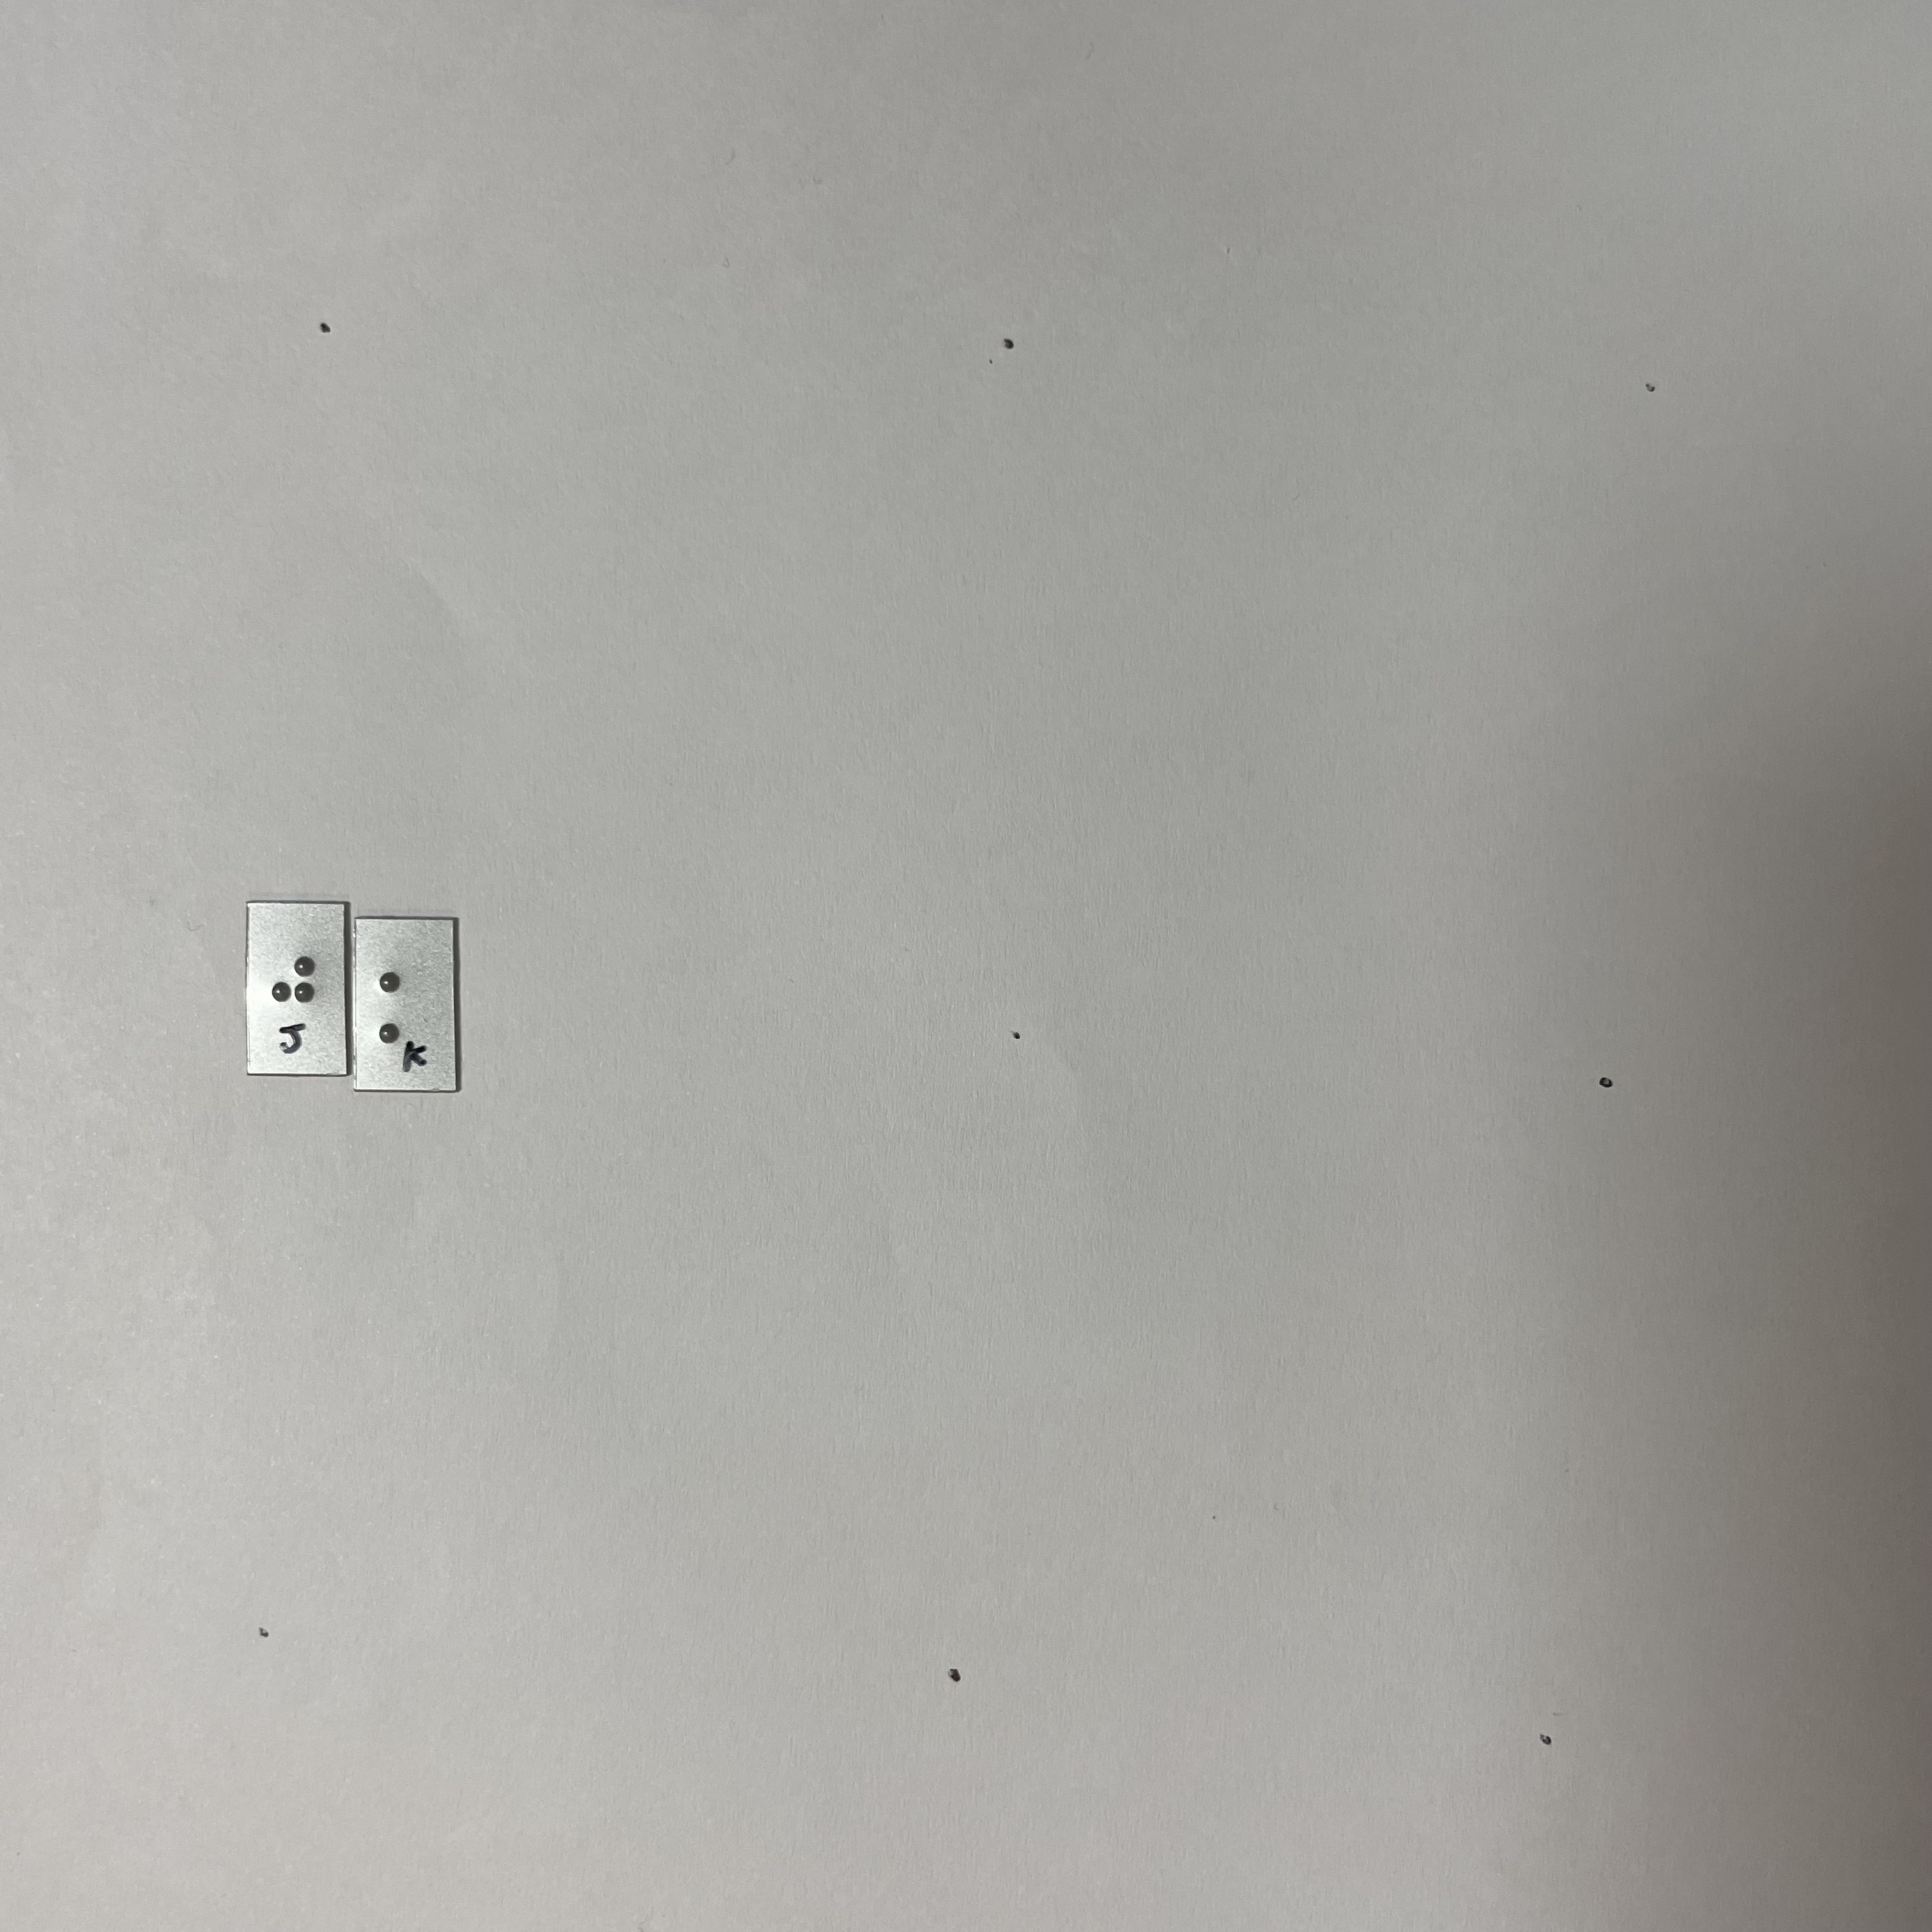j: (265, 949, 329, 1037)
k: (369, 954, 440, 1048)
